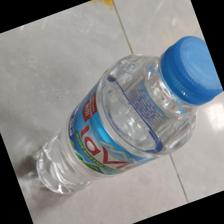Lavie: (33, 34, 224, 194)
